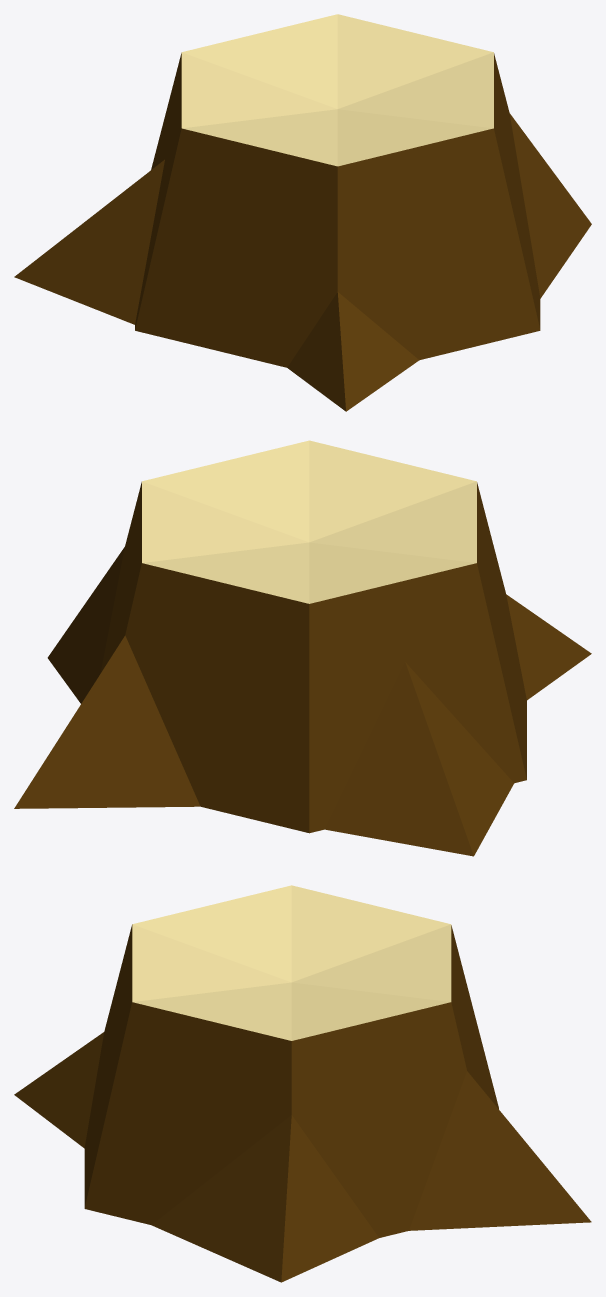
Rendered from Stump.fbx.
The picture shows the model from 3 angles, top to bottom: view 1: azimuth 30°, elevation 25°; view 2: azimuth 150°, elevation 25°; view 3: azimuth 270°, elevation 25°; orthographic projection. The views are drawn at different scales.
Parts seen in each view (by area): view 1: SketchUp.001; view 2: SketchUp.001; view 3: SketchUp.001.
Part boxes in pixels (box(x1,y1,x2,y2)): SketchUp.001: box(14, 14, 591, 411); SketchUp.001: box(14, 440, 591, 856); SketchUp.001: box(14, 885, 591, 1282).
Size of the model in its own units: 216 by 81 by 217.
